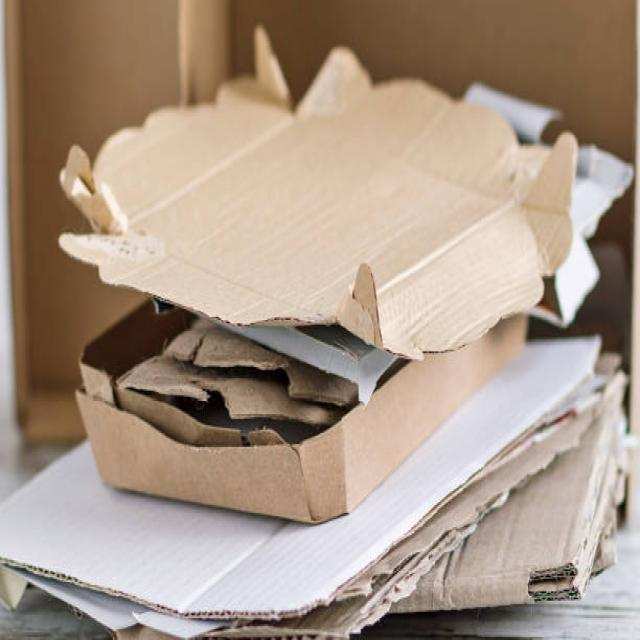electronic: (1, 27, 632, 635), (1, 331, 622, 637), (58, 25, 580, 362), (73, 309, 529, 524), (461, 80, 634, 328)
